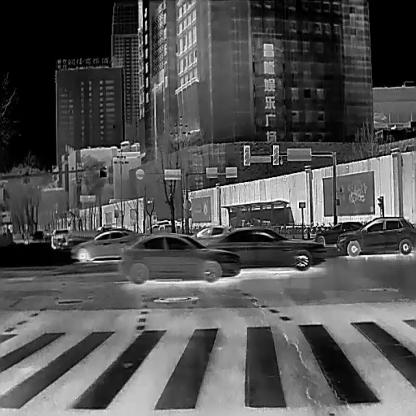car: (119, 231, 240, 284), (207, 225, 327, 271), (335, 214, 414, 256), (70, 226, 144, 262), (314, 220, 364, 244), (188, 224, 232, 250), (50, 226, 70, 248)
